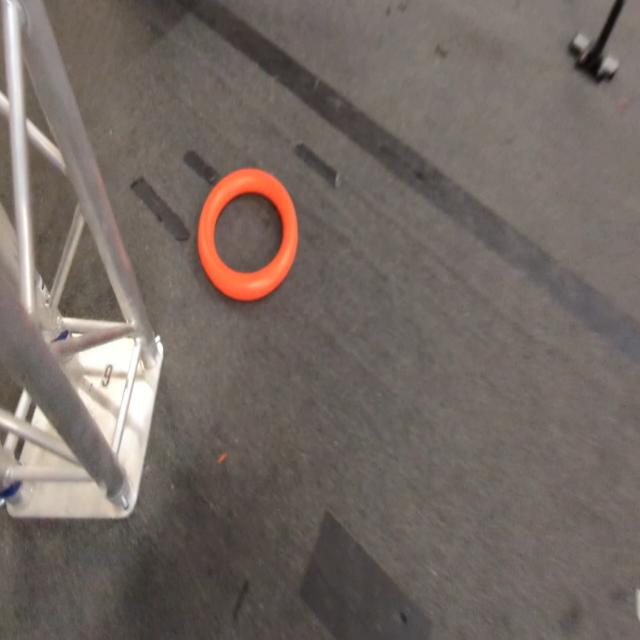note: (196, 173, 296, 299)
